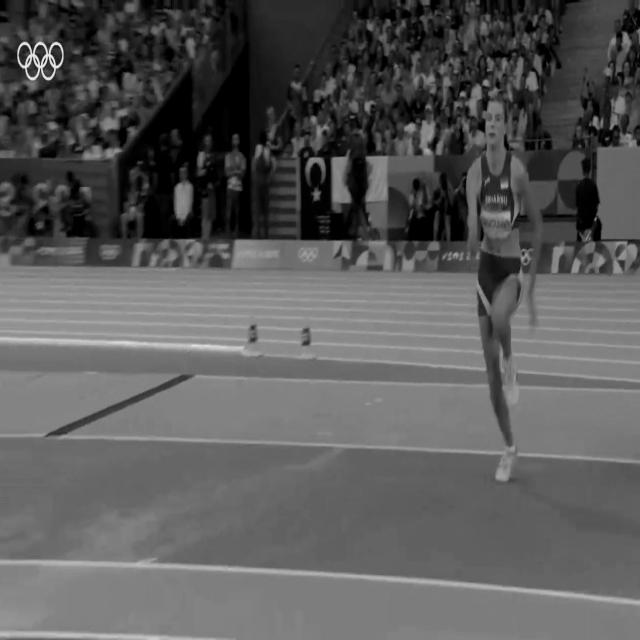run: (464, 98, 543, 483)
